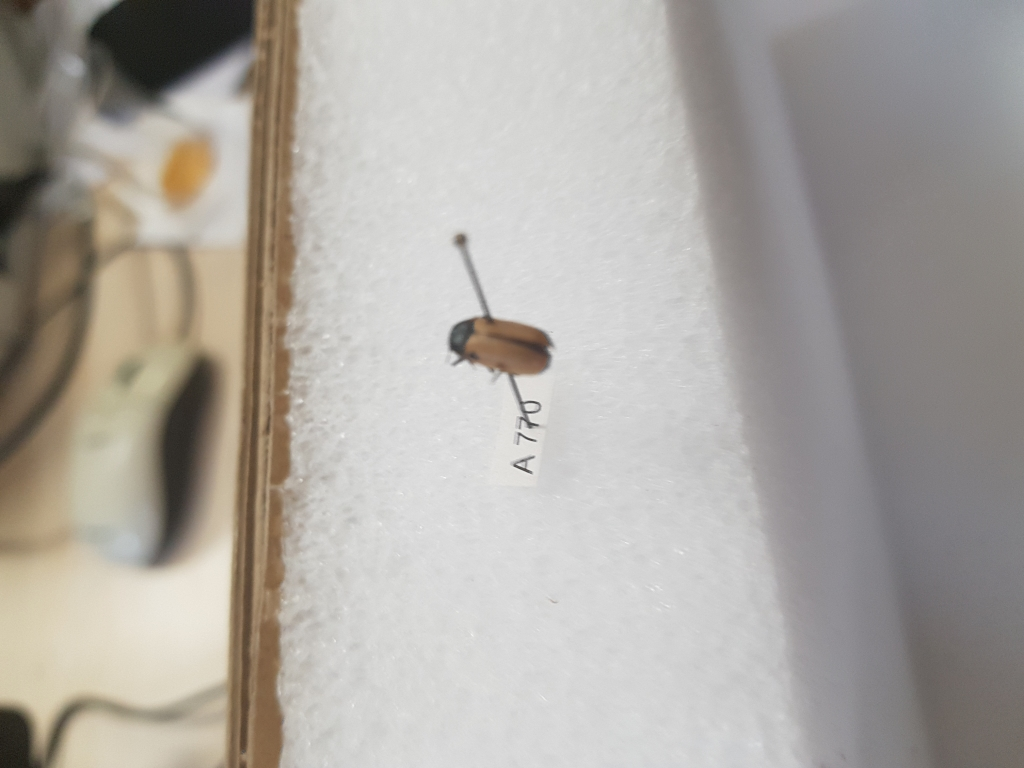Labidostomis_propinqua: (440, 308, 560, 370)
